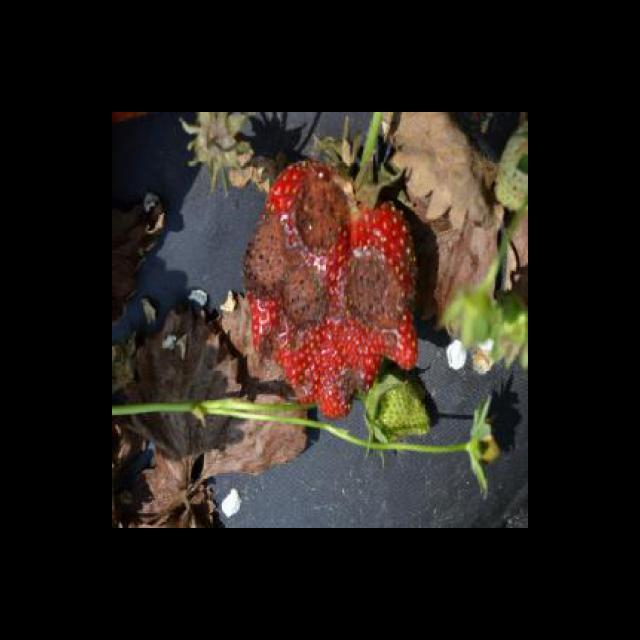Anthracnose Fruit Rot: (238, 160, 418, 421)
